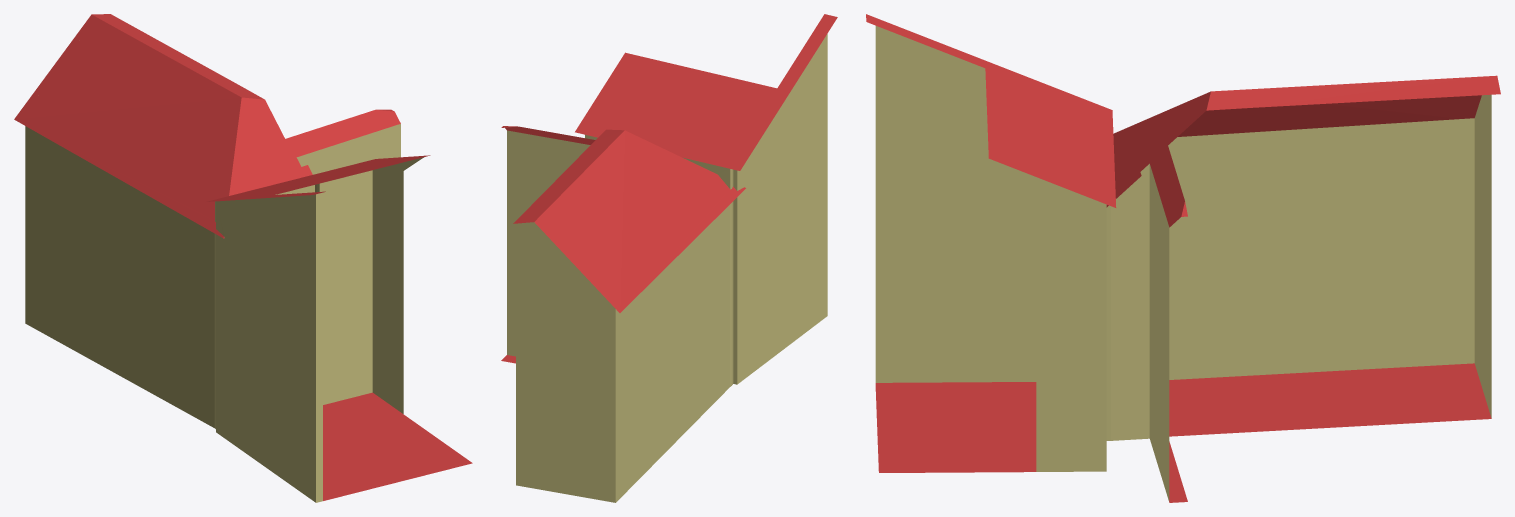
3 views of the same model, side by side, from view 1: azimuth 30°, elevation 25°; view 2: azimuth 150°, elevation 25°; view 3: azimuth 270°, elevation 25° (orthographic). The views are drawn at different scales.
Size of the model in its own units: 9.08 by 16.92 by 10.73.
